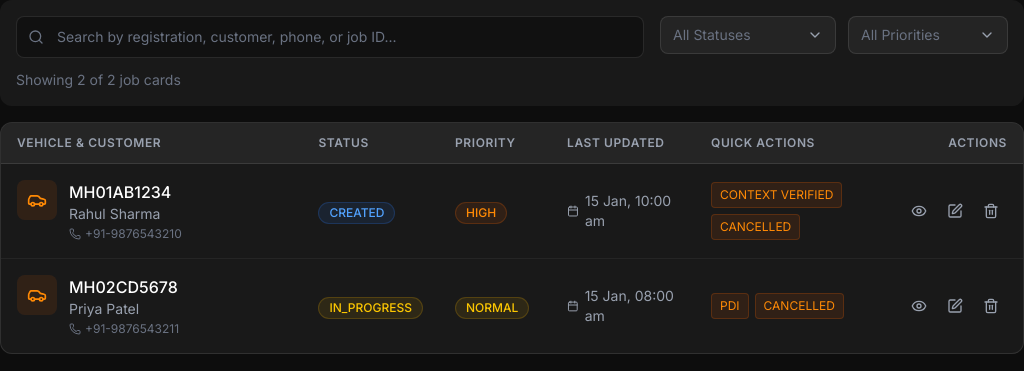
JobCardTable Component › filters job cards by search query
In the field with placeholder "Search by registration, customer, phone, or job ID...": (330, 37) [16, 16, 644, 58], type "MH01"
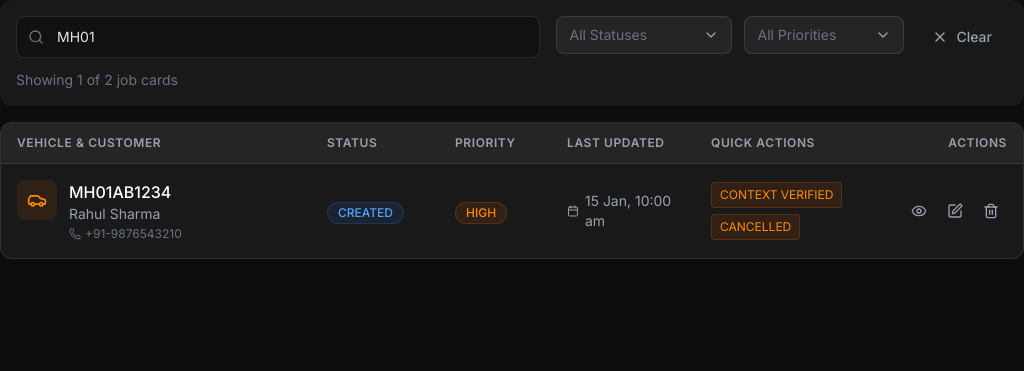
Check: the text "MH01AB1234" is shown, box [69, 180, 182, 204]
Check: the text "MH02CD5678" is gone
